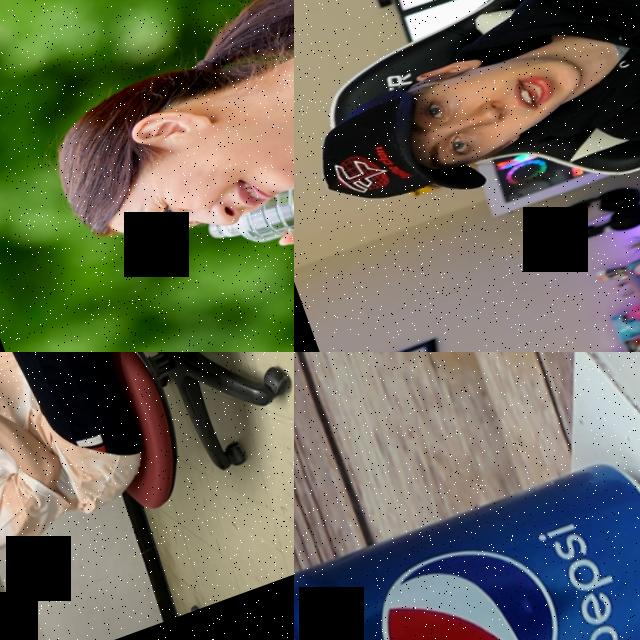bottle: (203, 129, 294, 266)
can: (294, 440, 640, 640)
